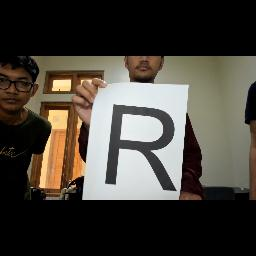r: (100, 100, 188, 200)
